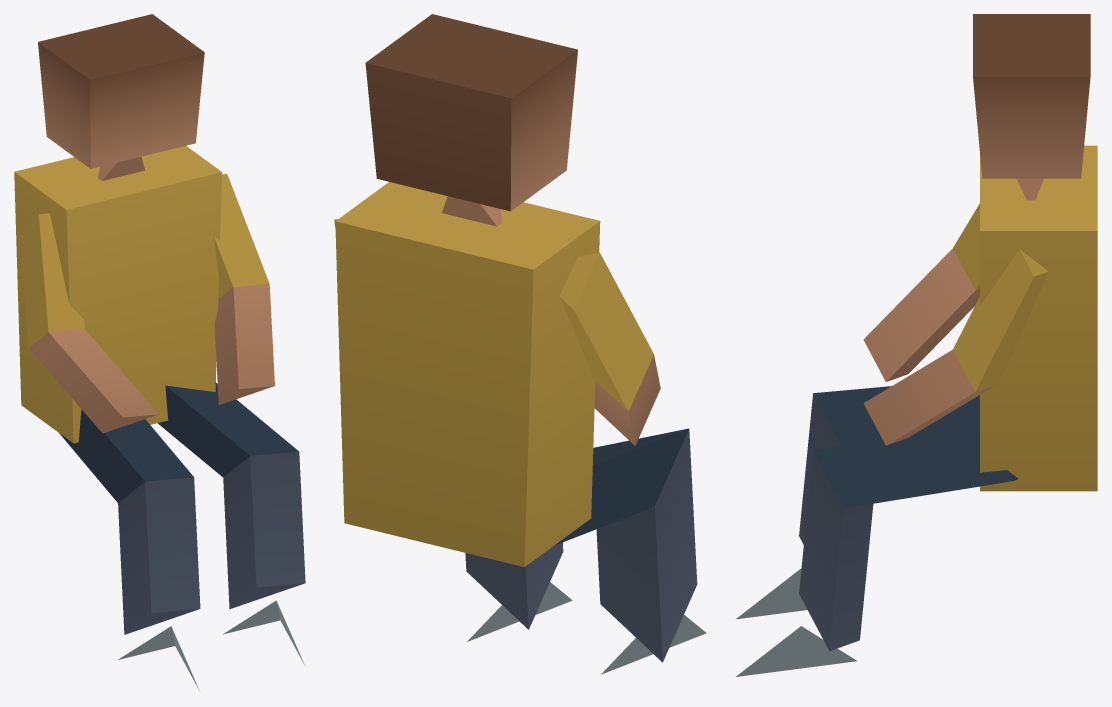
File: fan-03.glb
The picture shows the model from 3 angles, left to right: view 1: azimuth 30°, elevation 25°; view 2: azimuth 150°, elevation 25°; view 3: azimuth 270°, elevation 25°; orthographic projection. The views are drawn at different scales.
Parts seen in each view (by area): view 1: fan-03; view 2: fan-03; view 3: fan-03.
Boxes of the visible parts, left/top/right/bottom form: fan-03: left=14, top=14, right=305, bottom=690; fan-03: left=334, top=14, right=706, bottom=674; fan-03: left=736, top=14, right=1097, bottom=676.
Bounding box in the file's own units: 0.6375 × 1.41 × 0.77.
